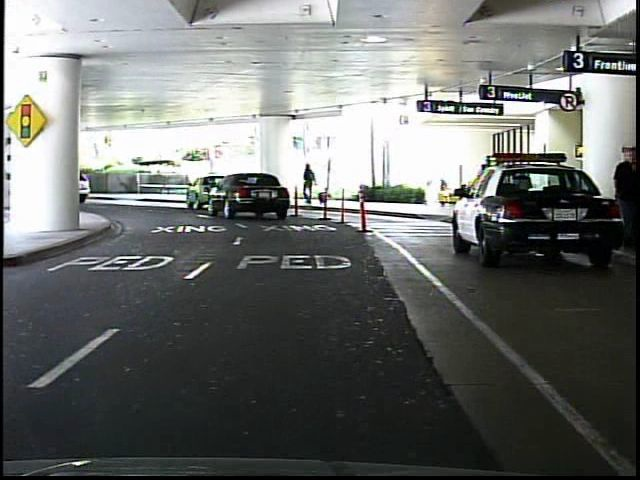person: (611, 142, 637, 247), (301, 161, 324, 207)
